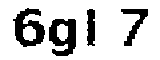6: (9, 3, 47, 51)
7: (119, 3, 151, 48)
I: (85, 5, 108, 51)
g: (47, 15, 79, 60)
